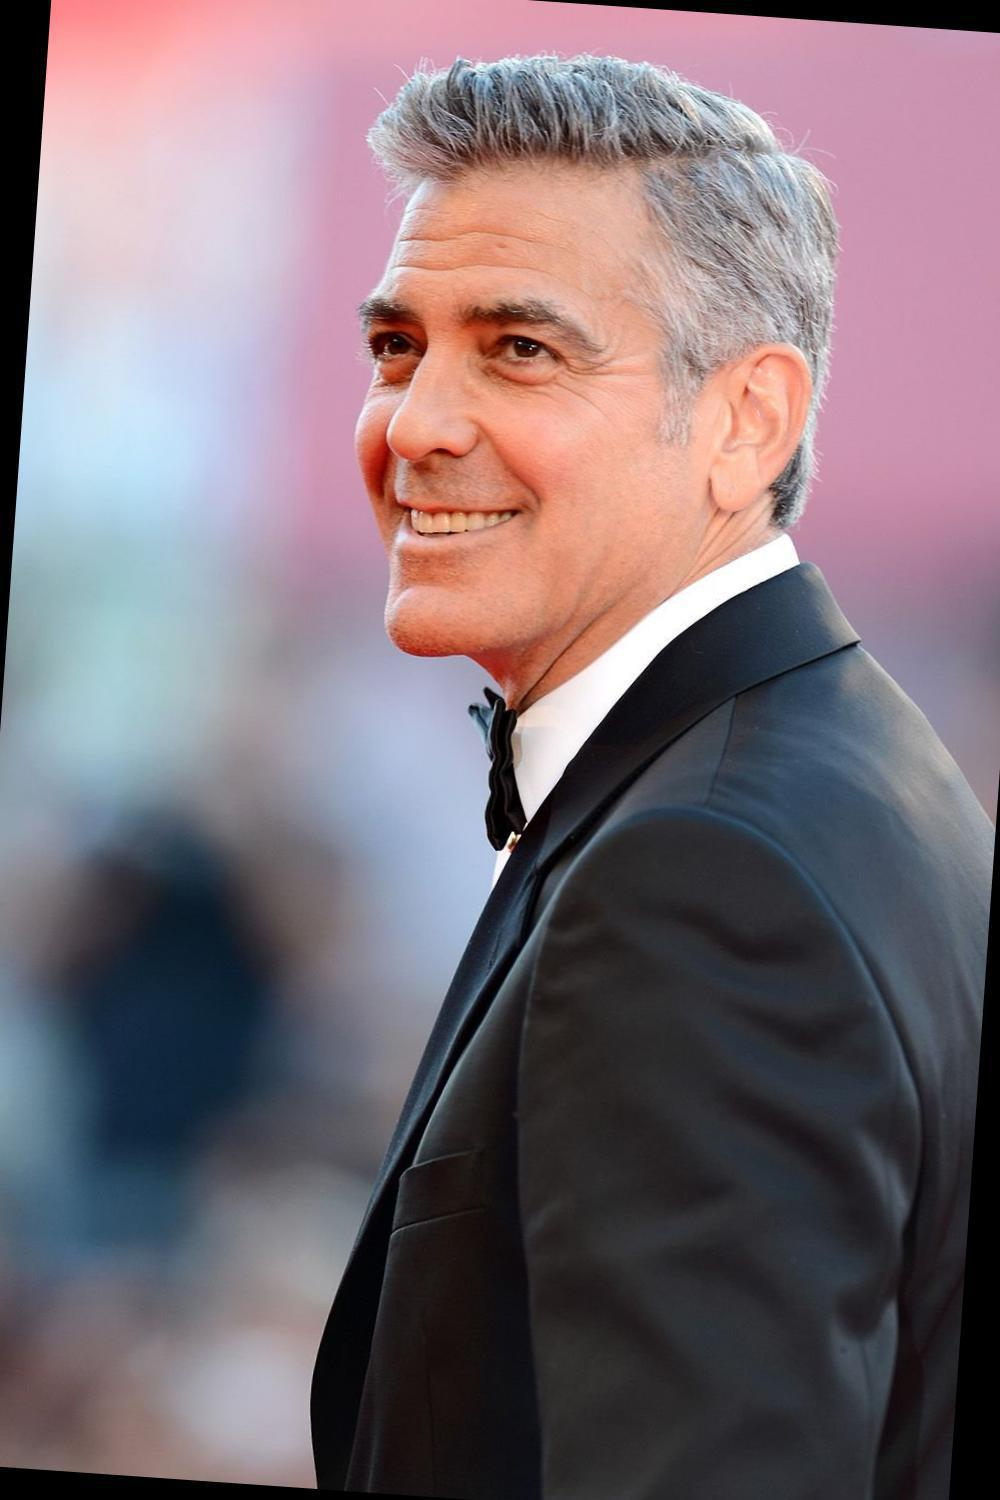Sober: (355, 184, 686, 625)
